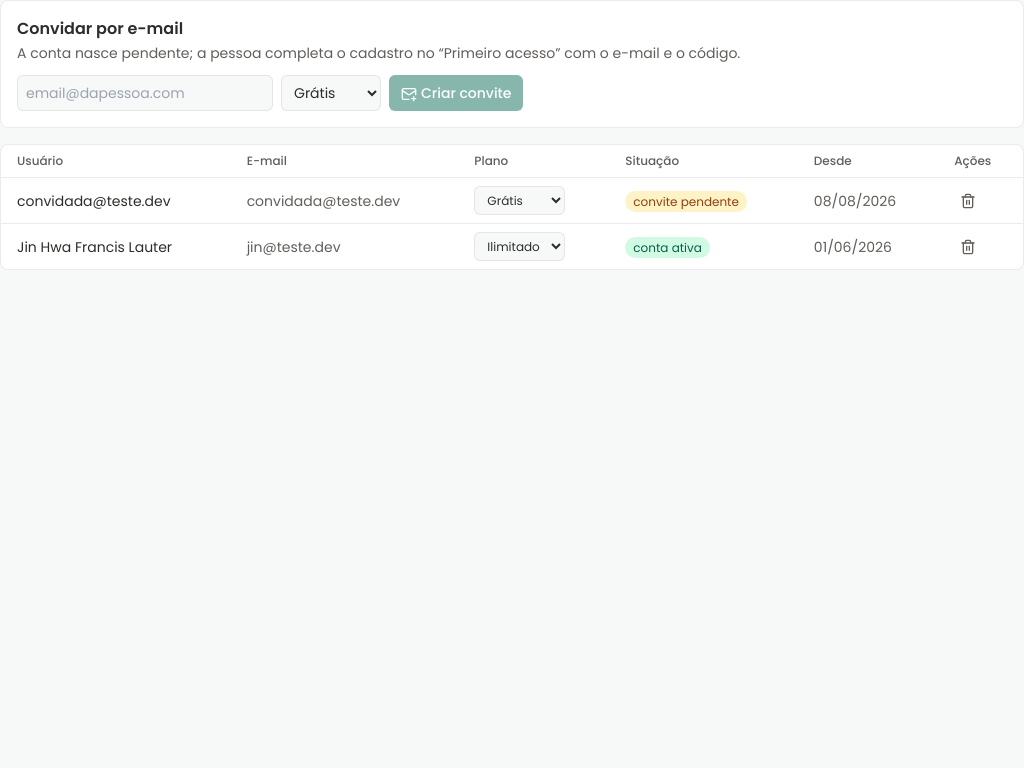
Test: UsersAdminView — exclusão de conta › "Não" fecha a confirmação sem excluir
Click the button named "Excluir conta jin@teste.dev".
click(968, 246)  # box [954,232,982,260]
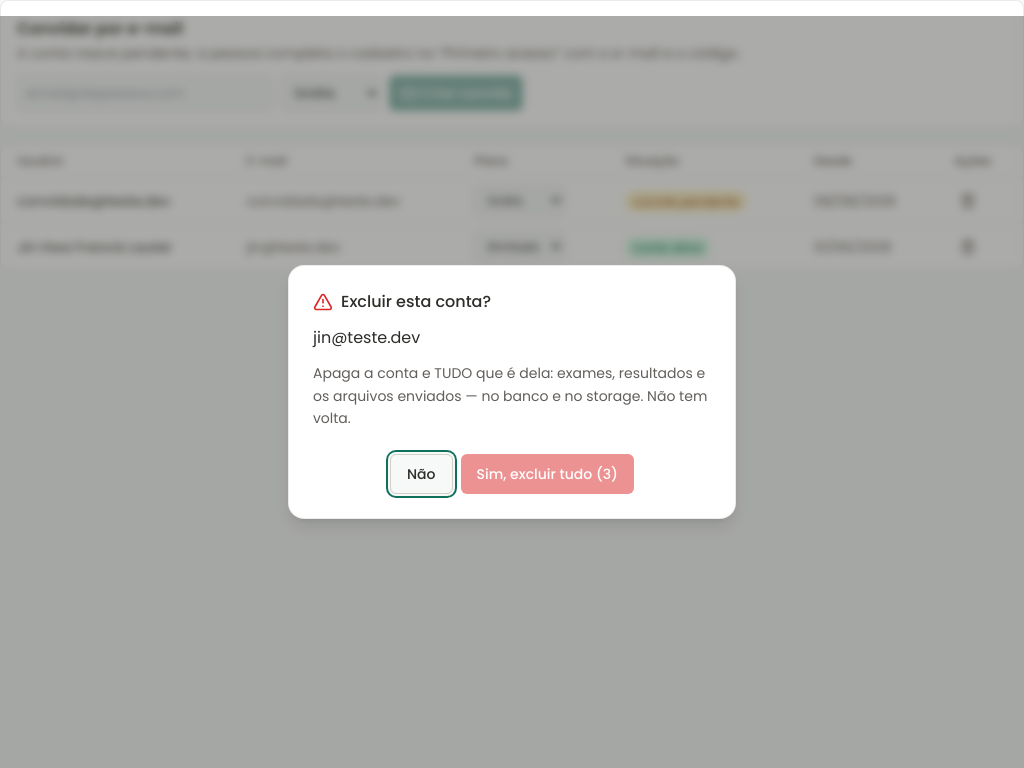
Click the button "Não".
click(421, 474)  # box [390,454,452,494]
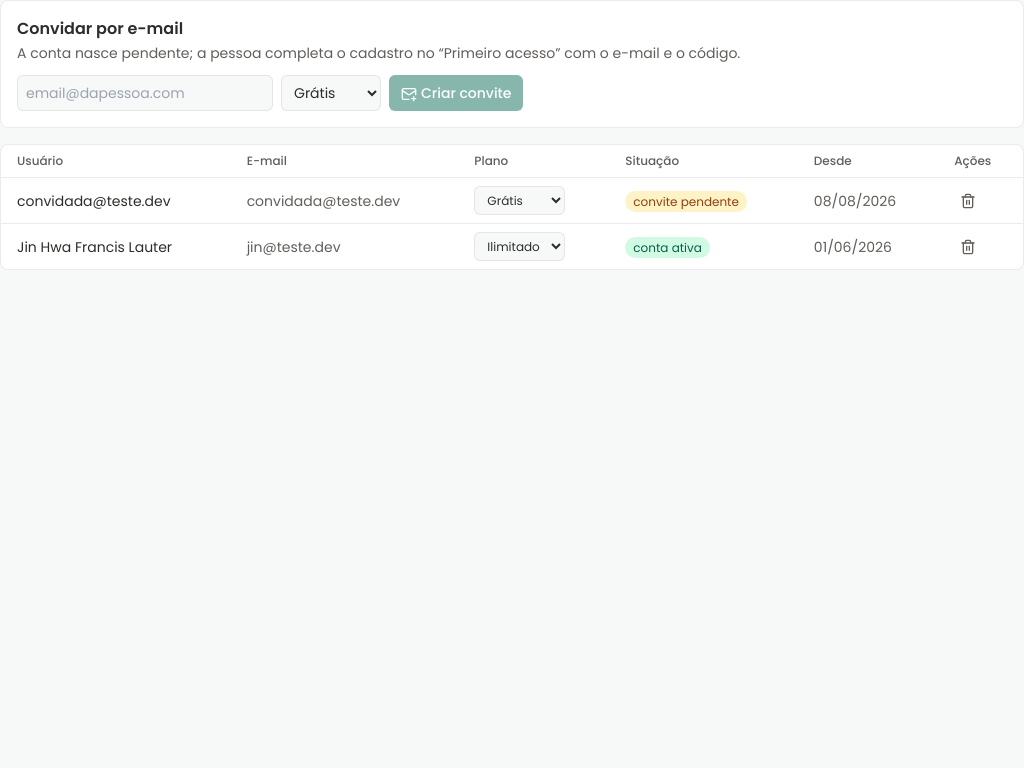
Now the heading "Excluir esta conta?" is gone
